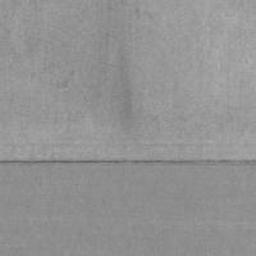Welding line: (0, 157, 256, 166)
